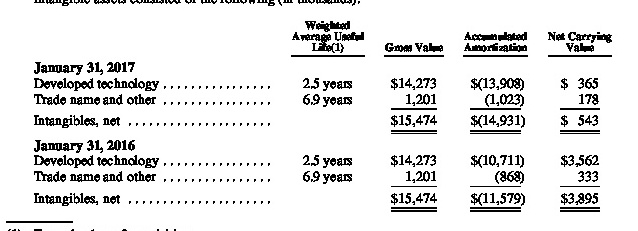table: (0, 0, 638, 231)
